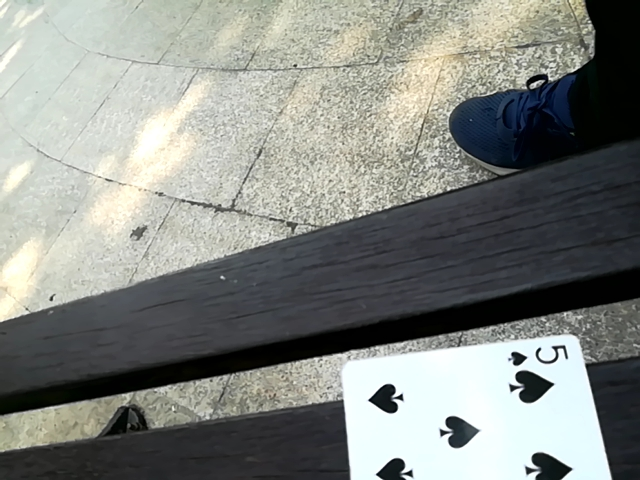ht 5: (334, 328, 621, 478)
